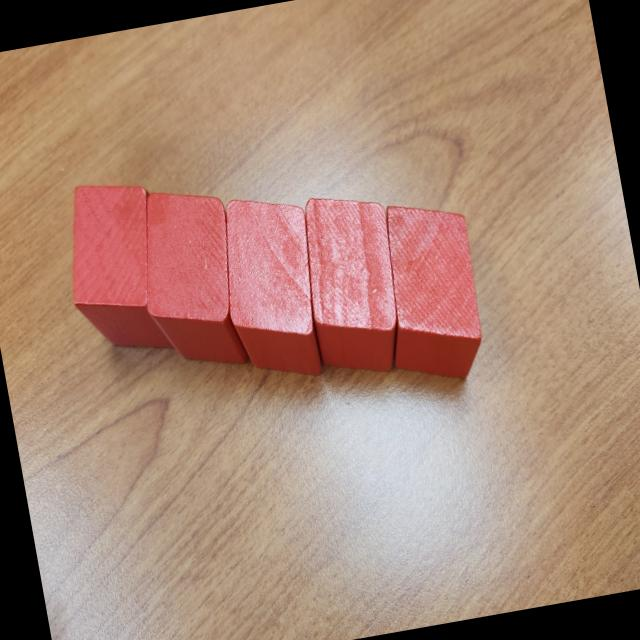red: (210, 188, 334, 390), (367, 192, 492, 391), (128, 180, 252, 380), (54, 172, 178, 364), (292, 187, 413, 382)
